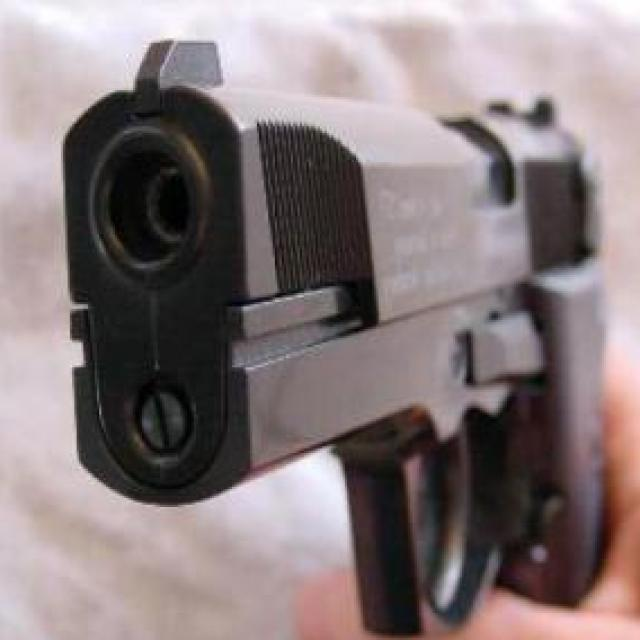pistol: (54, 34, 609, 640)
